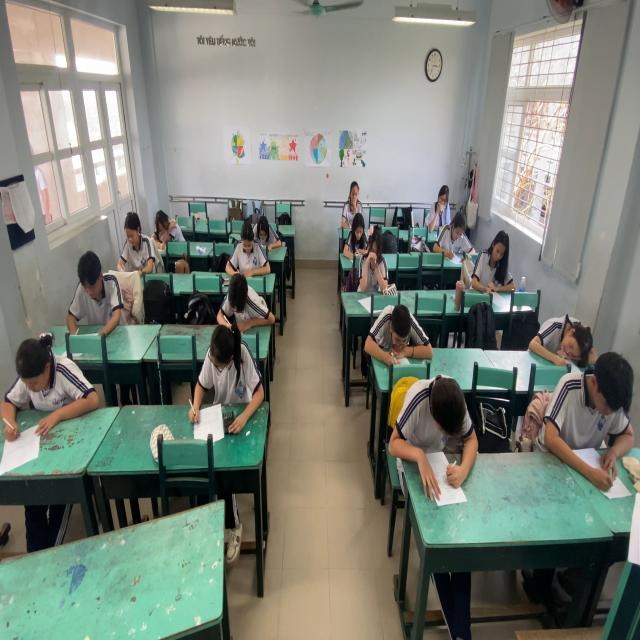not_cheating: (548, 342, 633, 485), (400, 363, 483, 496), (7, 334, 102, 428), (75, 243, 124, 344), (532, 302, 601, 368), (208, 329, 255, 415), (373, 290, 421, 366), (473, 222, 517, 301), (220, 268, 262, 331), (117, 208, 150, 284), (150, 204, 188, 264), (236, 225, 268, 288), (361, 230, 388, 295), (430, 174, 451, 237), (344, 210, 369, 261), (444, 201, 468, 252), (254, 204, 278, 249), (342, 178, 364, 221)
